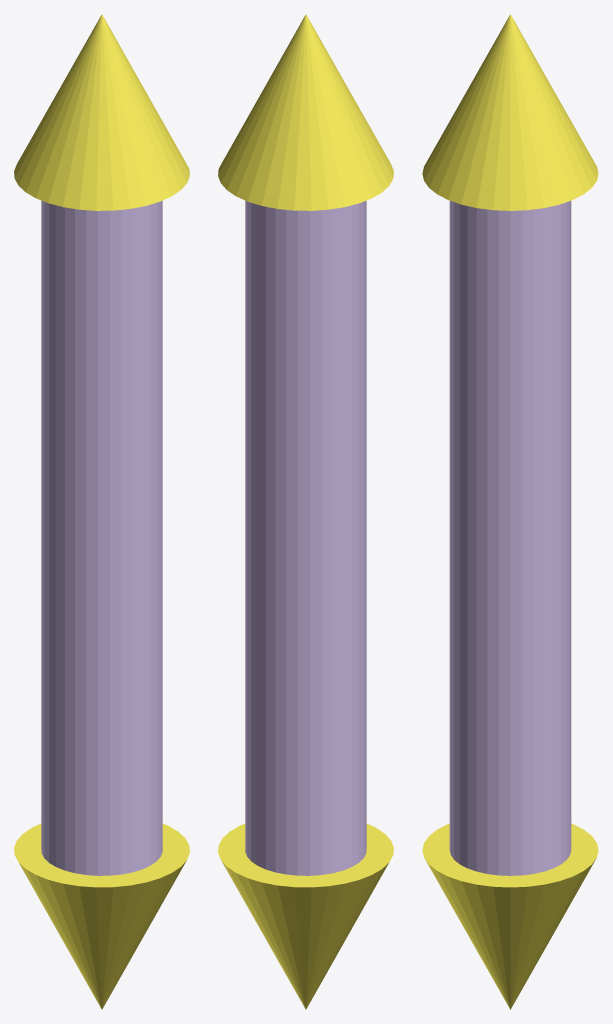
Rendered from enemyWeapon.obj.
3 renders of one model, left to right at view 1: azimuth 30°, elevation 25°; view 2: azimuth 150°, elevation 25°; view 3: azimuth 270°, elevation 25°, orthographic.
Parts seen in each view (by area): view 1: 円錐; view 2: 円錐; view 3: 円錐.
Boxes of the visible parts, x1,y1,x2,y2 form: 円錐: (14, 14, 189, 1009); 円錐: (218, 14, 393, 1009); 円錐: (422, 14, 598, 1009).
Bounding box in the file's own units: 0.747 × 4.66 × 0.747.
